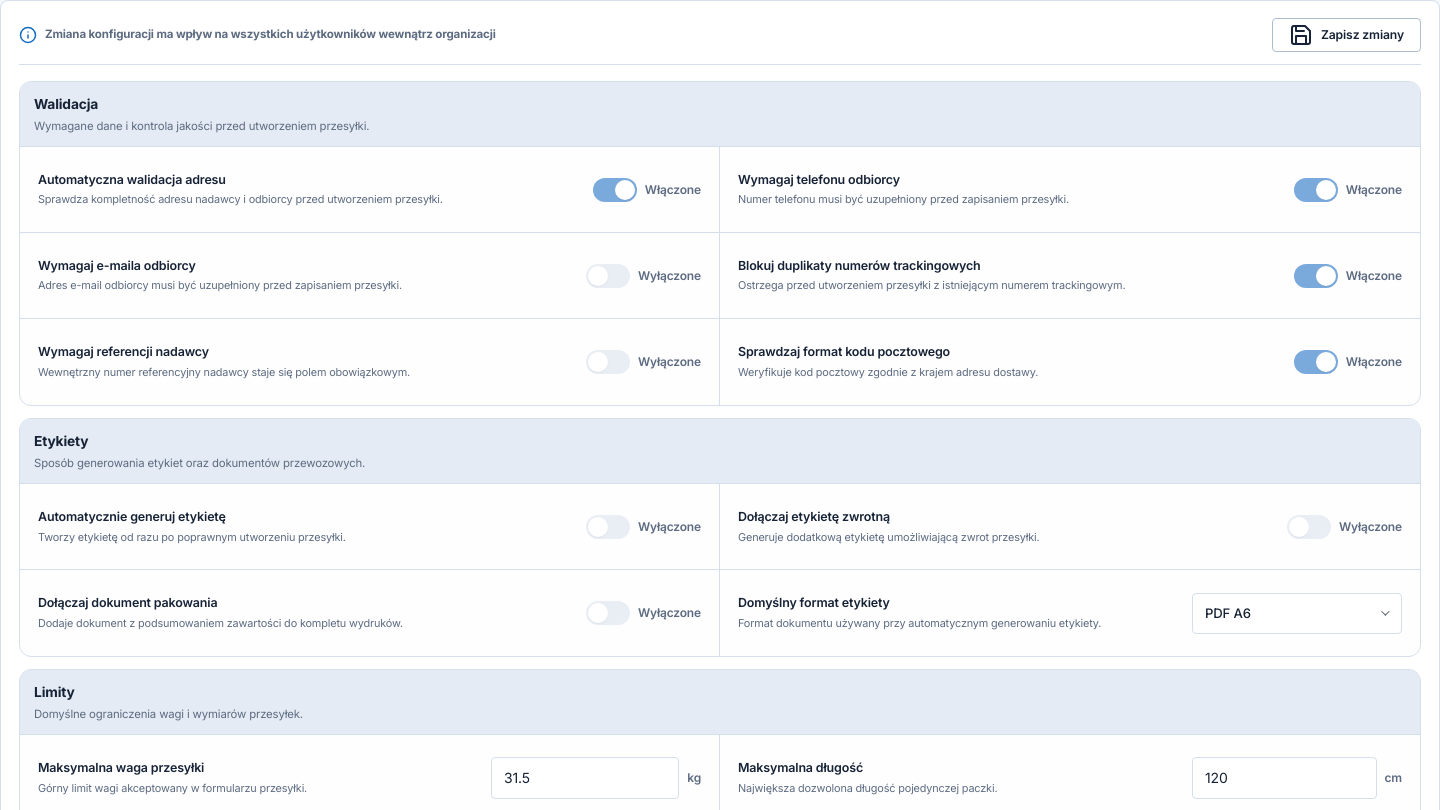
Test: ShipmentConfigurationPanel › loads shipment settings from API and saves changes
Expected: the heading "Etykiety" is shown, [34, 433, 88, 449]
Expected: the heading "Limity" is shown, [34, 684, 75, 700]
Click the checkbox named "Automatyczna walidacja adresu". click: click(647, 190)
box: [593, 178, 701, 202]
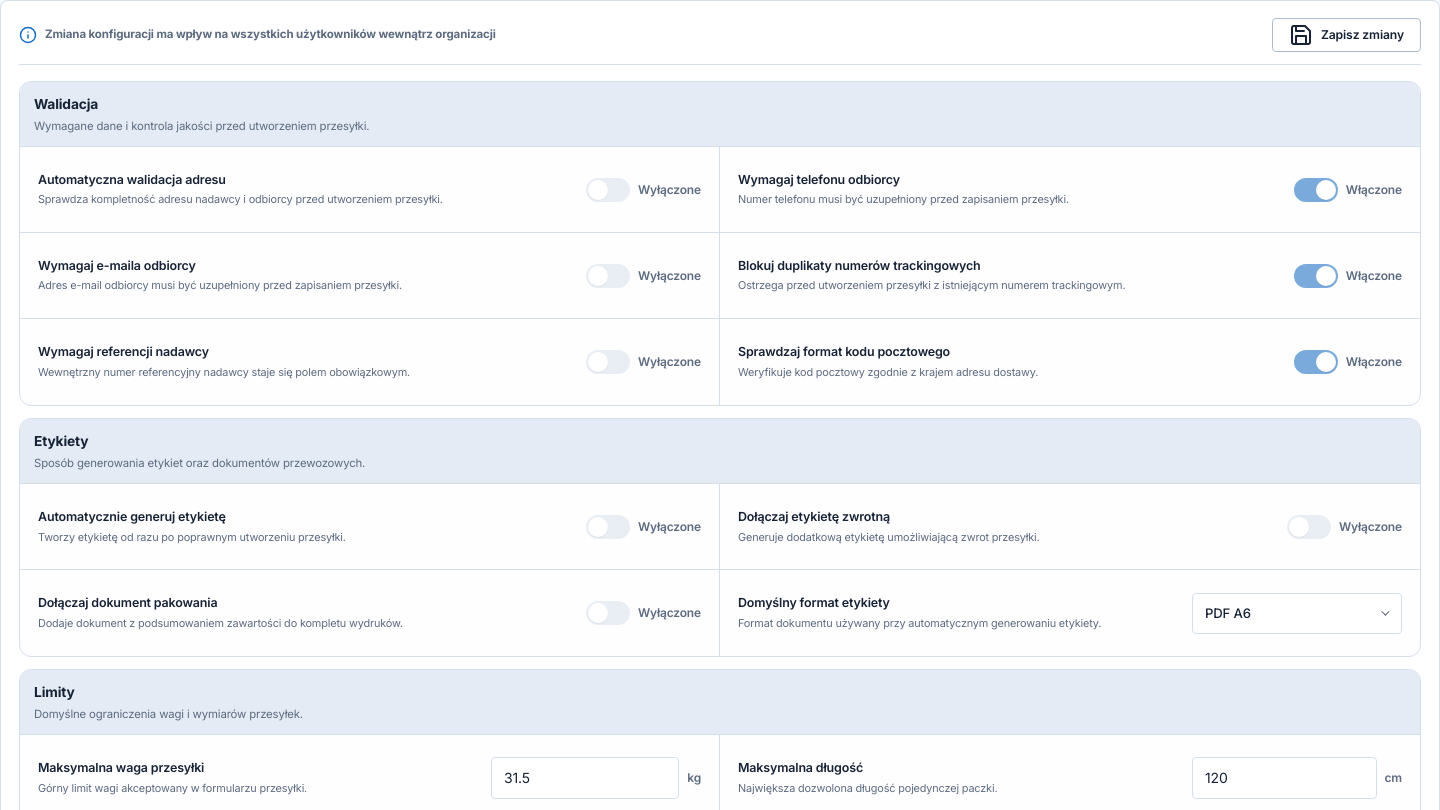
Click the button "Zapisz zmiany". click: click(1346, 35)
box: [1272, 18, 1421, 52]
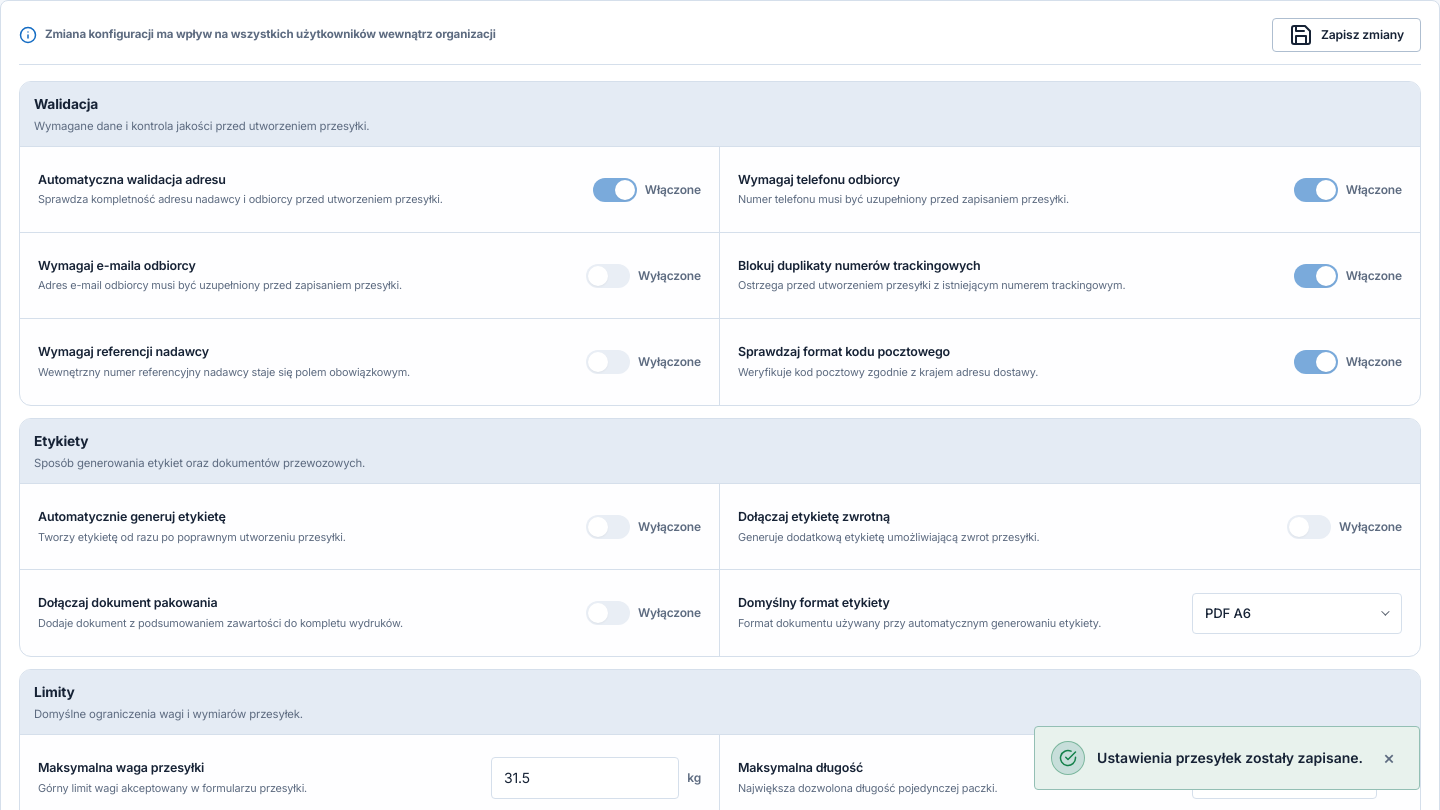
Expected: the text "Ustawienia przesyłek zostały zapisane." is shown, [1097, 749, 1363, 767]
